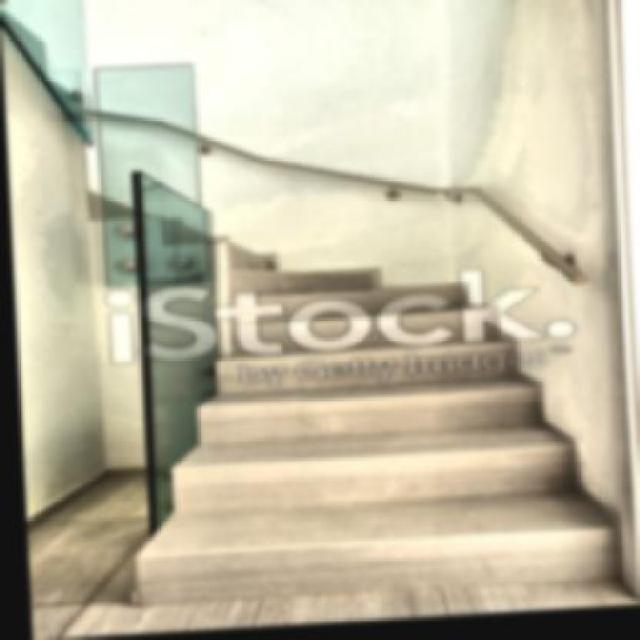stair: (137, 171, 625, 604)
